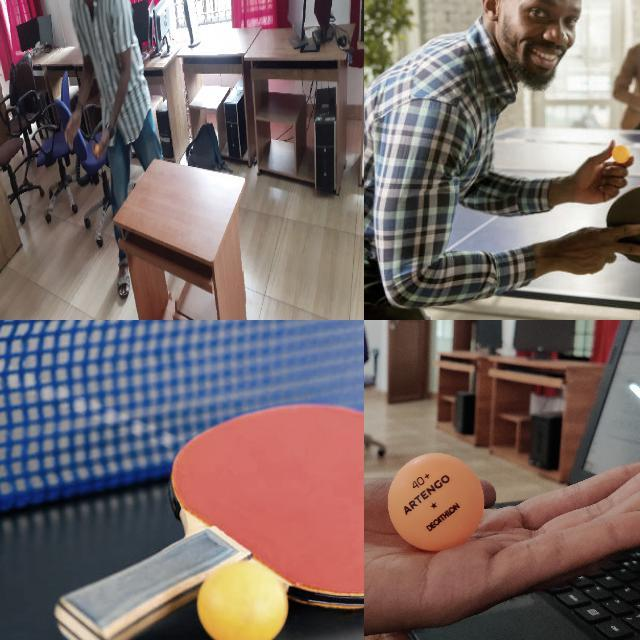ping-pong-ball: (386, 452, 486, 550), (197, 562, 288, 639), (612, 146, 628, 162), (94, 143, 99, 154)
